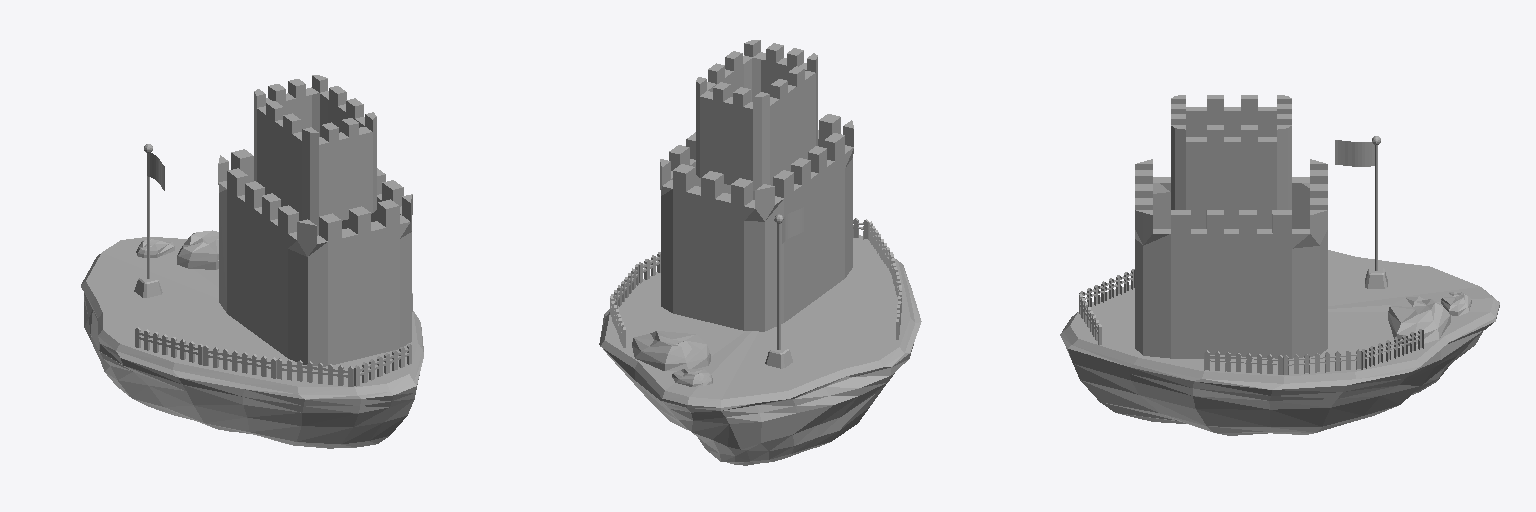
The model's file is EO0AAAMXQ0YGMC13XX7X56I3L.obj.
3 views of the same model, side by side, from view 1: azimuth 30°, elevation 25°; view 2: azimuth 150°, elevation 25°; view 3: azimuth 270°, elevation 25° (orthographic).
Visible parts, largest first — view 1: Object_castle4.jpg, Object_grass2.jpg, Object_underside2.jpg, Object_castle1.jpg, Object_castle6.jpg, Object_ledge.jpg, Object_fence.jpg, Object_castle2.jpg, Object_rock3.jpg, Object_castle3.jpg, Object_castle5.jpg; view 2: Object_grass2.jpg, Object_castle3.jpg, Object_underside2.jpg, Object_castle1.jpg, Object_castle6.jpg, Object_ledge.jpg, Object_castle2.jpg, Object_rock3.jpg, Object_fence.jpg, Object_castle4.jpg, Object_castle5.jpg, Object_flag.jpg; view 3: Object_castle5.jpg, Object_underside2.jpg, Object_grass2.jpg, Object_castle6.jpg, Object_ledge.jpg, Object_fence.jpg, Object_castle1.jpg, Object_rock3.jpg, Object_castle2.jpg, Object_castle3.jpg, Object_castle4.jpg, Object_flag.jpg.
Part boxes in pixels (bbox=[...]): Object_castle4.jpg: bbox=[308, 129, 411, 366]; Object_grass2.jpg: bbox=[86, 237, 417, 386]; Object_underside2.jpg: bbox=[84, 293, 419, 448]; Object_castle1.jpg: bbox=[218, 87, 409, 364]; Object_castle6.jpg: bbox=[218, 75, 412, 243]; Object_ledge.jpg: bbox=[81, 254, 423, 399]; Object_fence.jpg: bbox=[135, 293, 412, 386]; Object_castle2.jpg: bbox=[254, 104, 309, 220]; Object_rock3.jpg: bbox=[136, 230, 218, 269]; Object_castle3.jpg: bbox=[248, 93, 319, 235]; Object_castle5.jpg: bbox=[320, 94, 412, 228]; Object_grass2.jpg: bbox=[605, 235, 910, 399]; Object_castle3.jpg: bbox=[661, 94, 764, 331]; Object_underside2.jpg: bbox=[603, 344, 913, 465]; Object_castle1.jpg: bbox=[663, 52, 853, 330]; Object_castle6.jpg: bbox=[660, 40, 853, 208]; Object_ledge.jpg: bbox=[599, 259, 921, 410]; Object_castle2.jpg: bbox=[762, 69, 817, 185]; Object_rock3.jpg: bbox=[632, 331, 712, 386]; Object_fence.jpg: bbox=[610, 218, 901, 347]; Object_castle4.jpg: bbox=[752, 58, 823, 199]; Object_castle5.jpg: bbox=[660, 59, 751, 193]; Object_flag.jpg: bbox=[782, 207, 803, 243]; Object_castle5.jpg: bbox=[1143, 140, 1319, 358]; Object_underside2.jpg: bbox=[1063, 323, 1492, 435]; Object_grass2.jpg: bbox=[1070, 250, 1493, 376]; Object_castle6.jpg: bbox=[1135, 95, 1327, 233]; Object_ledge.jpg: bbox=[1060, 290, 1499, 389]; Object_fence.jpg: bbox=[1079, 269, 1423, 374]; Object_castle1.jpg: bbox=[1153, 107, 1309, 233]; Object_rock3.jpg: bbox=[1388, 292, 1471, 345]; Object_castle2.jpg: bbox=[1186, 111, 1276, 136]; Object_castle3.jpg: bbox=[1288, 138, 1327, 354]; Object_castle4.jpg: bbox=[1135, 138, 1174, 354]; Object_flag.jpg: bbox=[1335, 140, 1374, 166].
Size of the model in its own units: 1.83 by 2.02 by 2.5.